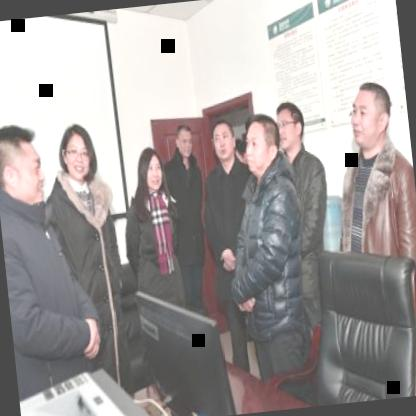head: (0, 119, 51, 213), (345, 75, 399, 156), (53, 117, 100, 185), (238, 108, 283, 178), (270, 95, 310, 156), (134, 144, 166, 198), (206, 114, 238, 168), (172, 119, 196, 161)
